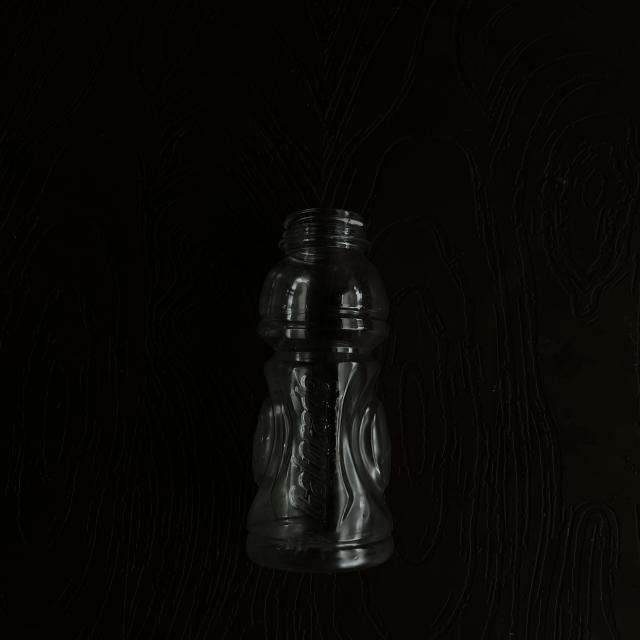PET_ClearBottle: (238, 210, 416, 576)
